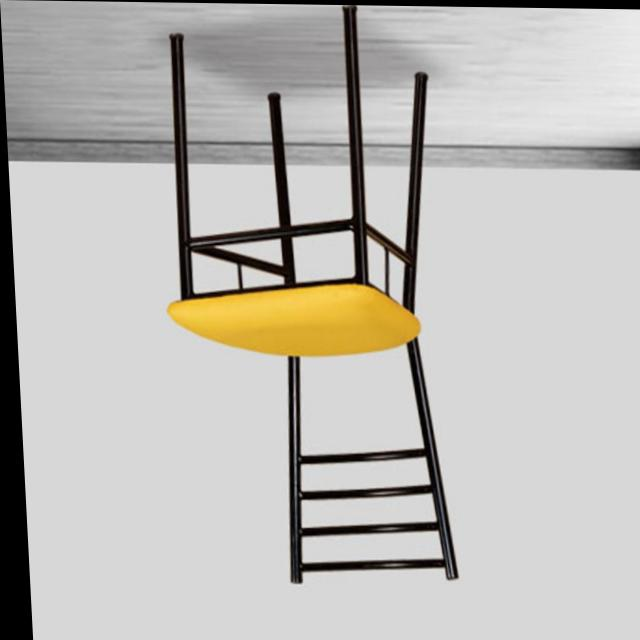Chair: (146, 2, 456, 589)
